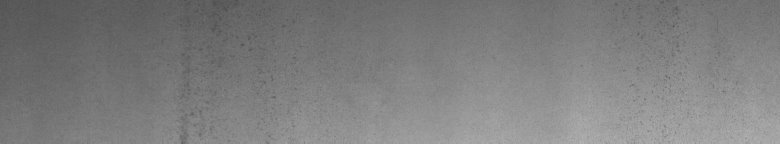ib: (190, 25, 276, 120)
